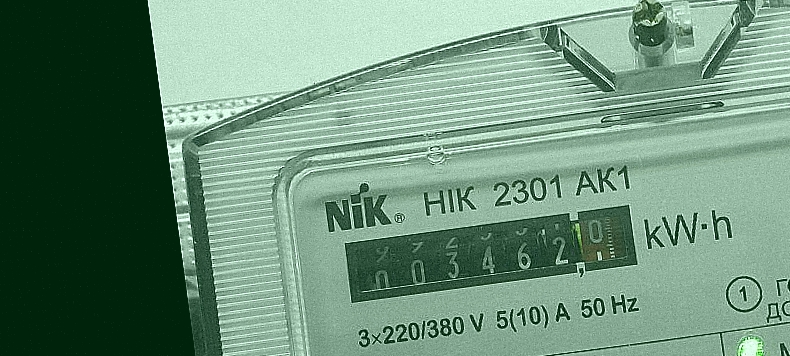0: (406, 254, 428, 285), (584, 215, 605, 245), (369, 265, 391, 290)
2: (548, 232, 570, 266)
3: (440, 248, 462, 282)
4: (477, 242, 498, 276)
6: (511, 237, 535, 273)
9: (369, 243, 391, 264)
screen: (329, 190, 650, 322)
